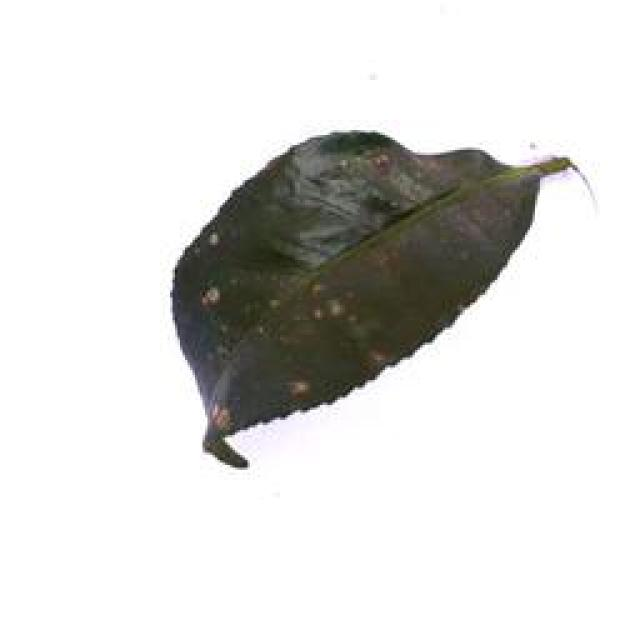Algal Leaf Spot: (164, 120, 586, 473)
